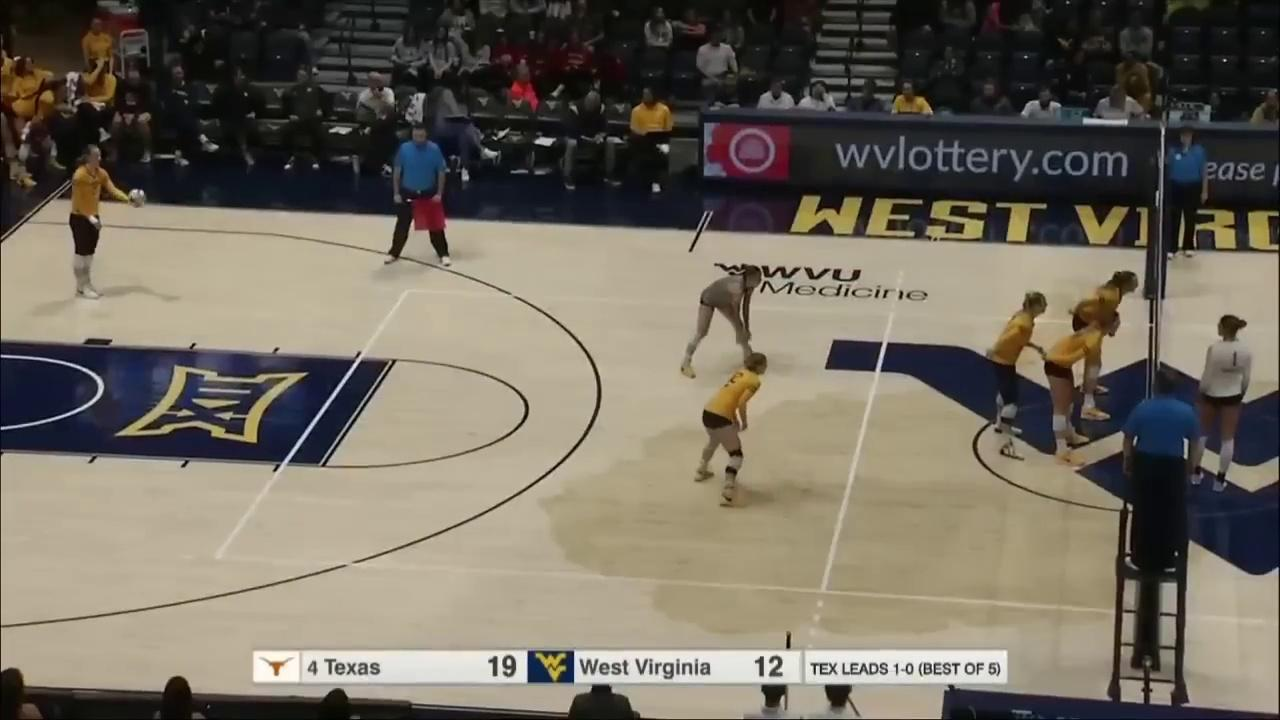player: (1045, 309, 1121, 468), (69, 147, 144, 299), (694, 353, 768, 503), (1191, 315, 1253, 487), (1075, 269, 1139, 419), (989, 291, 1046, 459), (683, 265, 764, 377)
refree: (1125, 370, 1203, 571), (383, 129, 452, 268), (1162, 128, 1209, 257)
